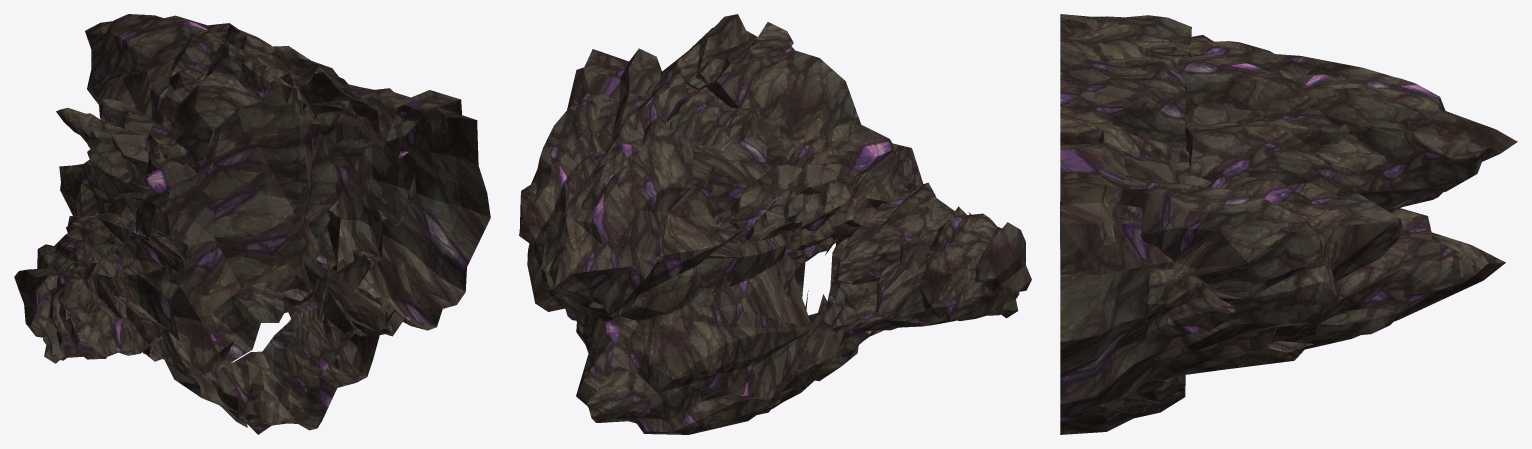
File: juqing_yewai_573_stone01.obj
3 views of the same model, side by side, from view 1: azimuth 30°, elevation 25°; view 2: azimuth 150°, elevation 25°; view 3: azimuth 270°, elevation 25° (orthographic). The views are drawn at different scales.
Parts seen in each view (by area): view 1: juqing_yewai_573_stone01; view 2: juqing_yewai_573_stone01; view 3: juqing_yewai_573_stone01.
Part boxes in pixels (bbox=[...]): juqing_yewai_573_stone01: bbox=[14, 14, 490, 434]; juqing_yewai_573_stone01: bbox=[519, 14, 1031, 434]; juqing_yewai_573_stone01: bbox=[1060, 14, 1517, 434].
Bounding box in the file's own units: 5238 × 3946 × 4081.
Materials: 1 (1 with a texture image).
